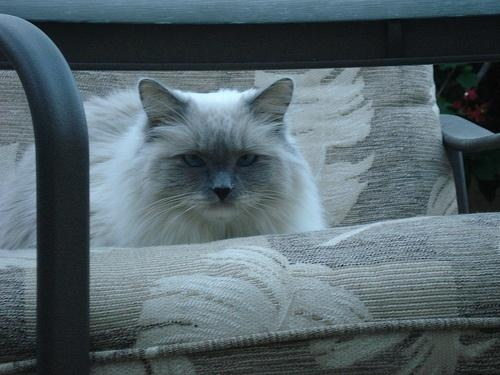cat: (4, 77, 320, 252)
